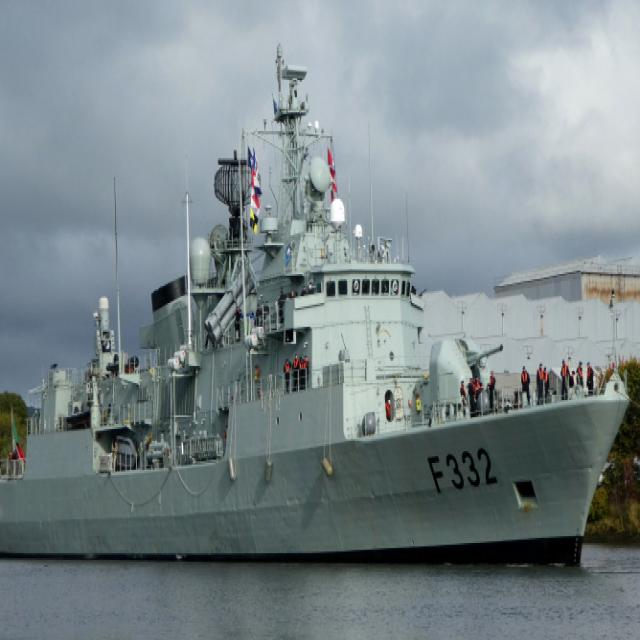Fragata: (1, 42, 637, 576)
